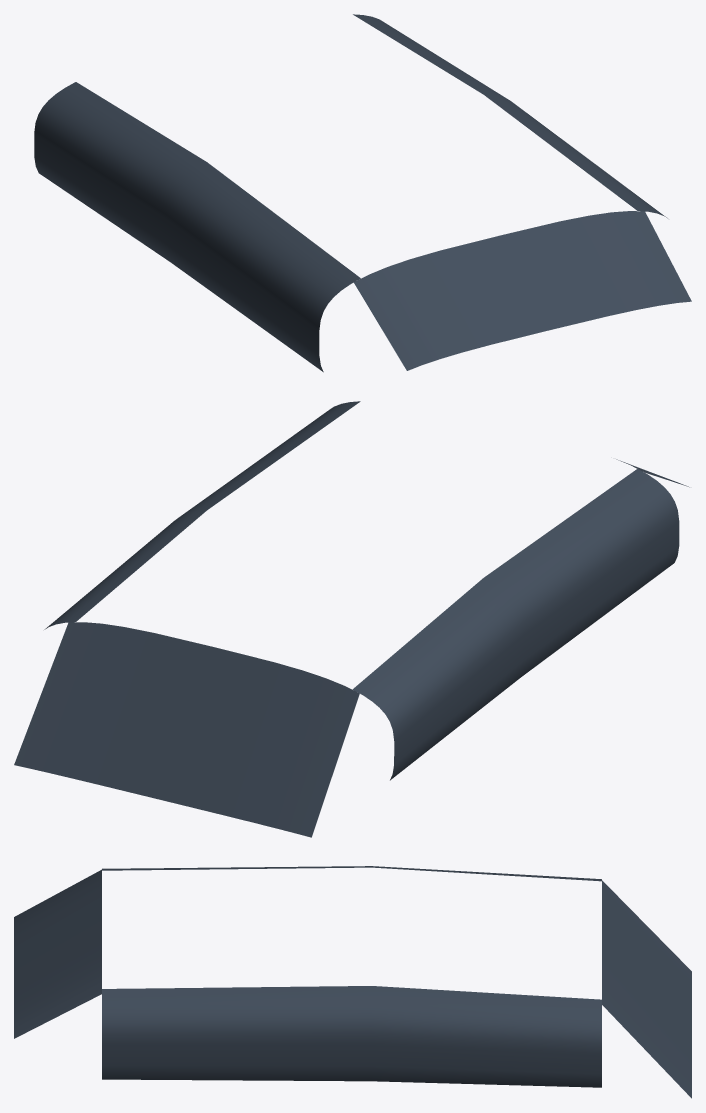
File: suv_glass.glb
3 views of the same model, one above another, from view 1: azimuth 30°, elevation 25°; view 2: azimuth 150°, elevation 25°; view 3: azimuth 270°, elevation 25° (orthographic). The views are drawn at different scales.
Bounding box in the file's own units: 1.82 × 0.6246 × 3.39.
